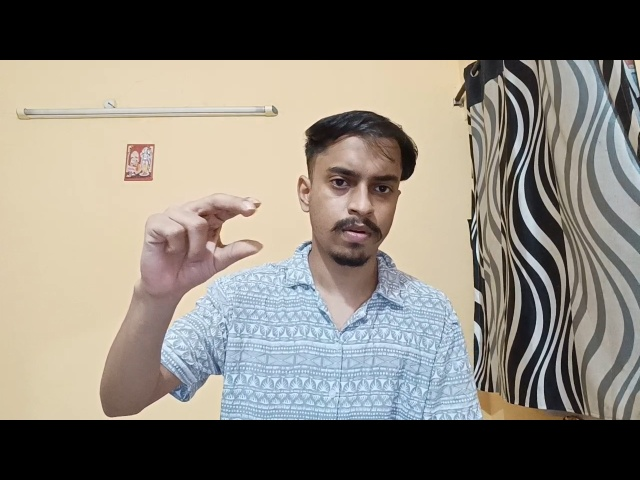No: (135, 180, 292, 293)
